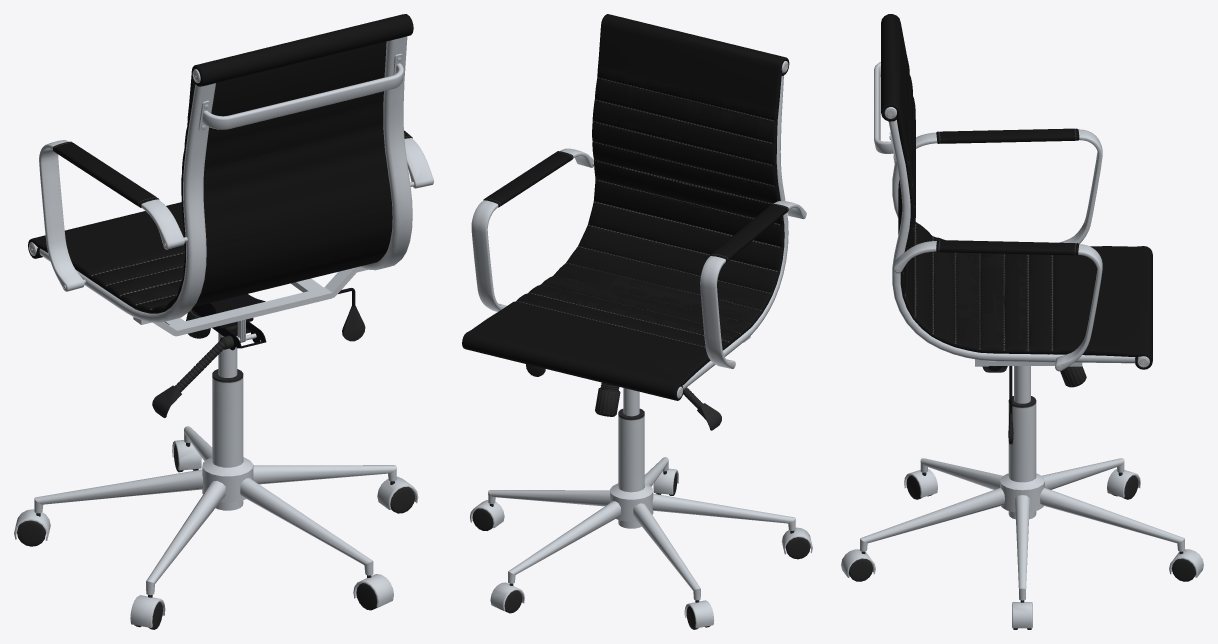
Rendered from office_chair_kilicarslan.glb.
3 views of the same model, side by side, from view 1: azimuth 30°, elevation 25°; view 2: azimuth 150°, elevation 25°; view 3: azimuth 270°, elevation 25° (orthographic). The views are drawn at different scales.
Visible parts, largest first — view 1: office_chair_Material_0; view 2: office_chair_Material_0; view 3: office_chair_Material_0.
Part boxes in pixels (x1,y1,x2,y2): office_chair_Material_0: (14,14,433,629); office_chair_Material_0: (462,14,812,629); office_chair_Material_0: (841,14,1203,629).
Bounding box in the file's own units: 56.69 × 90.06 × 59.6.
Materials: 1 (1 with a texture image).
